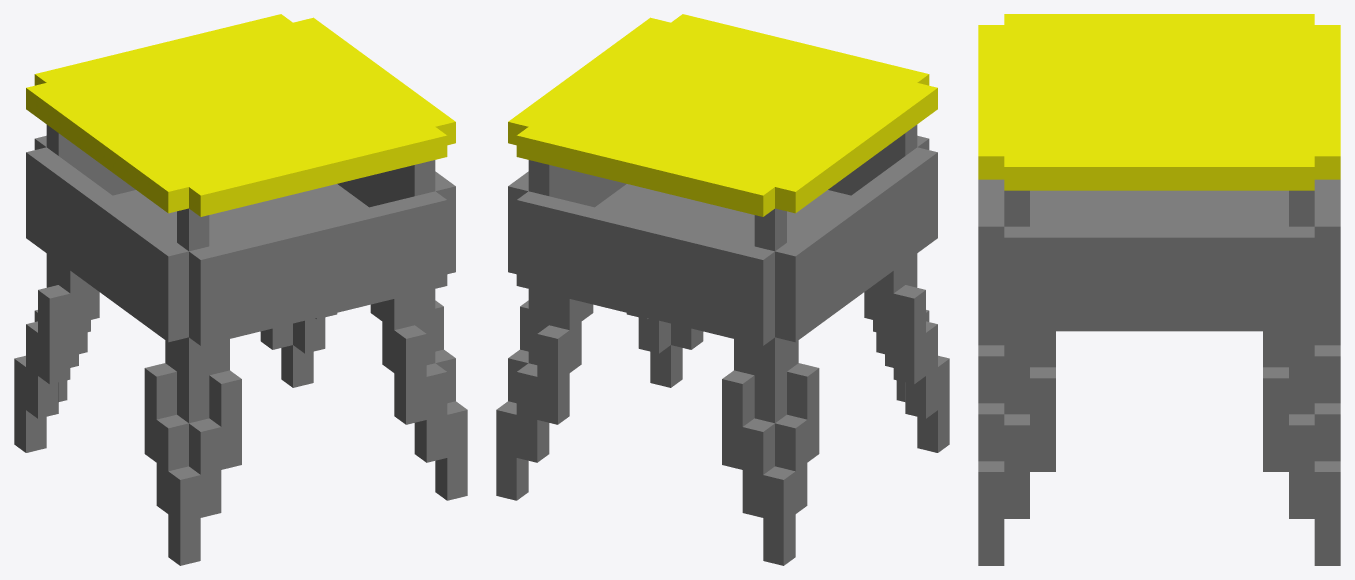
The model's file is GuardTower.obj.
3 renders of one model, left to right at view 1: azimuth 30°, elevation 25°; view 2: azimuth 150°, elevation 25°; view 3: azimuth 270°, elevation 25°, orthographic. The views are drawn at different scales.
Size of the model in its own units: 1.4 by 1.7 by 1.4.
Materials: 1 (1 with a texture image).
